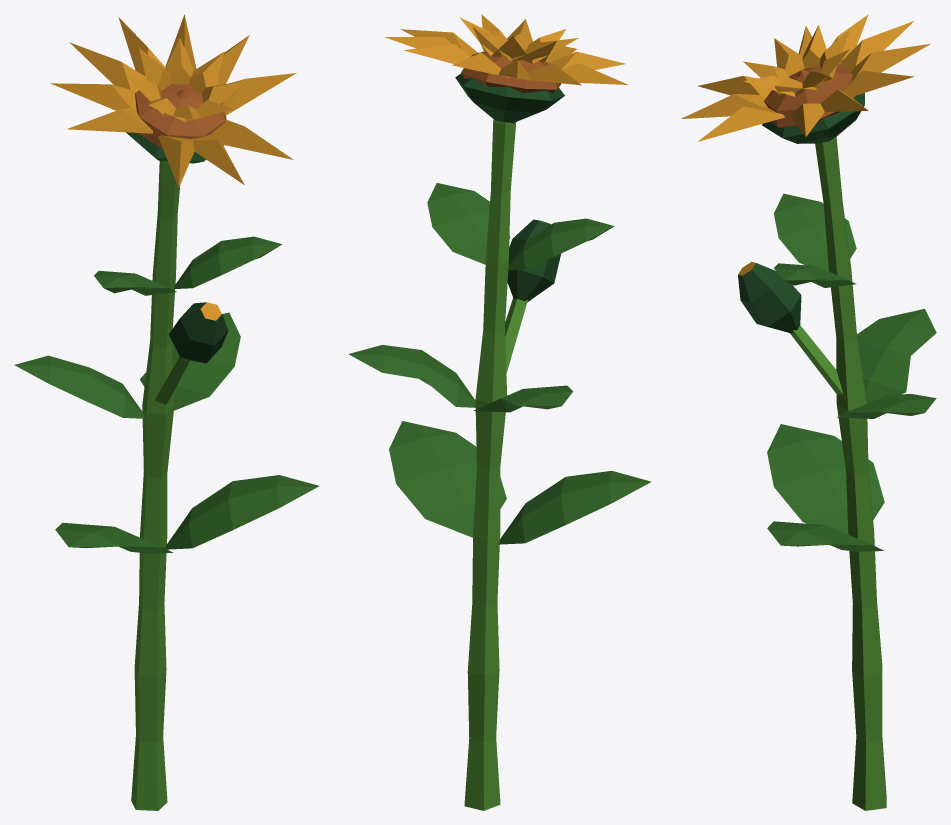
The model's file is wildflower-plant-cf4279.glb.
3 renders of one model, left to right at view 1: azimuth 30°, elevation 25°; view 2: azimuth 150°, elevation 25°; view 3: azimuth 270°, elevation 25°, orthographic.
Parts seen in each view (by area): view 1: plant; view 2: plant; view 3: plant.
Part boxes in pixels (x1,y1,x2,y2): plant: (14, 14, 319, 810); plant: (348, 14, 651, 810); plant: (681, 14, 936, 810).
Size of the model in its own units: 0.1411 by 0.413 by 0.1256.
